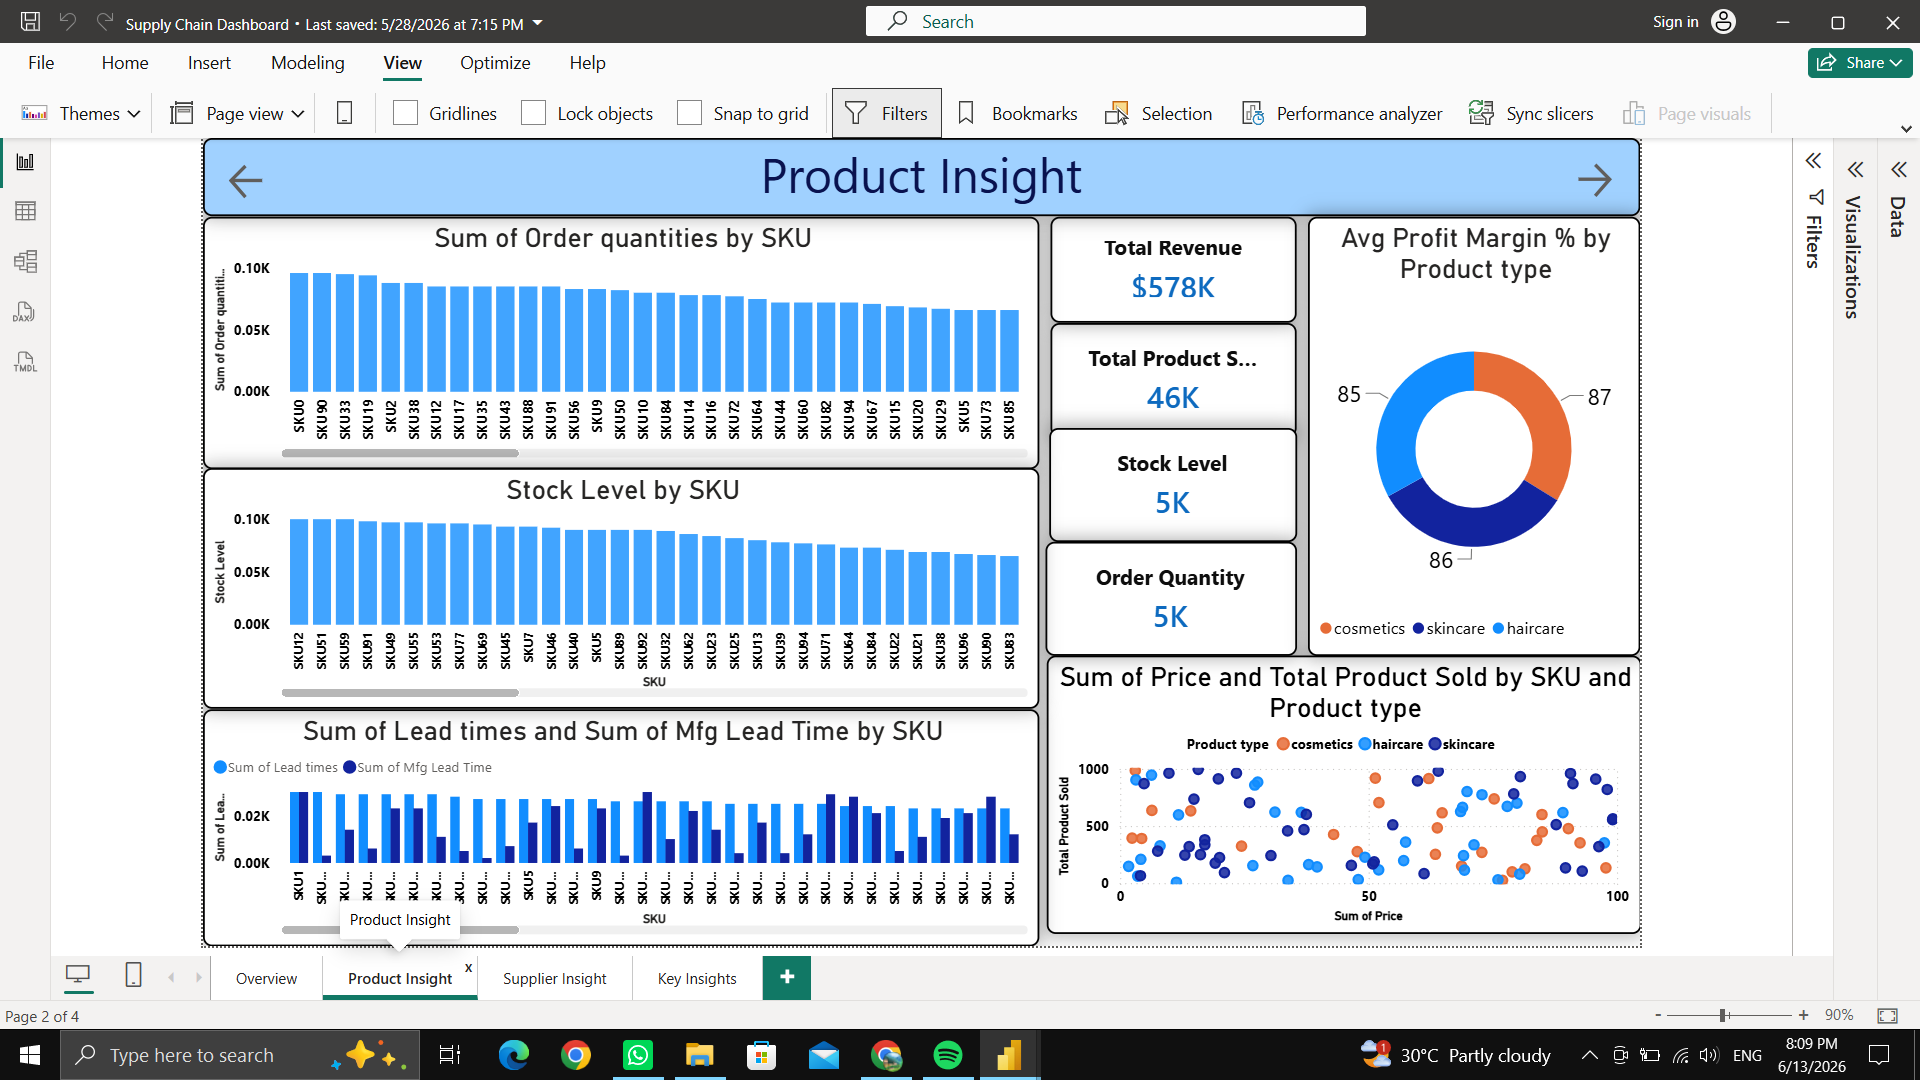

The page's visual inventory and layout, read from the dashboard file:
{"tool":"powerbi","page":{"name":"Product Insight","canvas":[1280,720],"ordinal":1},"visuals":[{"type":"scatterChart","fields":{"X":["Sum(supply_chain_data.Price)"],"Y":["supply_chain_data.Total Product Sold"],"Category":["supply_chain_data.SKU"],"Series":["supply_chain_data.Product type"]},"box":[751,461.3,529.3,247.9],"z":0},{"type":"cardVisual","title":"Total Revenue","fields":{"Data":["supply_chain_data.Total Product Sold"]},"box":[754.7,164.7,219.6,101.5],"z":1000},{"type":"cardVisual","title":"Total Revenue","fields":{"Data":["supply_chain_data.Total Revenue"]},"box":[754.7,70,219.6,94.7],"z":2000},{"type":"cardVisual","title":"Total Revenue","fields":{"Data":["supply_chain_data.Stock Level"]},"box":[753.3,258,220.9,101.5],"z":3000},{"type":"cardVisual","title":"Total Revenue","fields":{"Data":["supply_chain_data.Order Quantity"]},"box":[750.6,359.5,223.7,101.5],"z":4000},{"type":"clusteredColumnChart","fields":{"Y":["Sum(supply_chain_data.Order quantities)"],"Category":["supply_chain_data.SKU"]},"box":[0,70,745.1,225],"z":5000},{"type":"clusteredColumnChart","fields":{"Category":["supply_chain_data.SKU"],"Y":["Sum(supply_chain_data.Lead times)","Sum(supply_chain_data.Mfg Lead Time)"]},"box":[0,509,745,211],"z":6000},{"type":"clusteredColumnChart","fields":{"Category":["supply_chain_data.SKU"],"Y":["supply_chain_data.Stock Level"]},"box":[0,294.4,745,214.6],"z":7000},{"type":"textbox","box":[0,0,1280.3,70],"z":8000},{"type":"donutChart","fields":{"Y":["supply_chain_data.Avg Profit Margin %"],"Category":["supply_chain_data.Product type"]},"box":[983.9,70,296.4,391.1],"z":9000},{"type":"actionButton","box":[19.2,19.2,100.2,39.8],"z":10000},{"type":"actionButton","box":[1218.5,17.8,48,39.8],"z":11000}]}

Visuals, with their boxes on the page's 1280x720 design canvas (x1, y1, x2, y2). These are canvas units, not pixel positions in the 1920x1080 screenshot, which may show the page scaled, cropped or inside an application window:
scatterChart - Sum(supply_chain_data.Price) x supply_chain_data.Total Product Sold: 751, 461, 1280, 709
"Total Revenue" cardVisual: 755, 165, 974, 266
"Total Revenue" cardVisual: 755, 70, 974, 165
"Total Revenue" cardVisual: 753, 258, 974, 360
"Total Revenue" cardVisual: 751, 360, 974, 461
clusteredColumnChart - Sum(supply_chain_data.Order quantities) x supply_chain_data.SKU: 0, 70, 745, 295
clusteredColumnChart - supply_chain_data.SKU x Sum(supply_chain_data.Lead times): 0, 509, 745, 720
clusteredColumnChart - supply_chain_data.SKU x supply_chain_data.Stock Level: 0, 294, 745, 509
textbox: 0, 0, 1280, 70
donutChart - supply_chain_data.Avg Profit Margin % x supply_chain_data.Product type: 984, 70, 1280, 461
actionButton: 19, 19, 119, 59
actionButton: 1218, 18, 1266, 58
